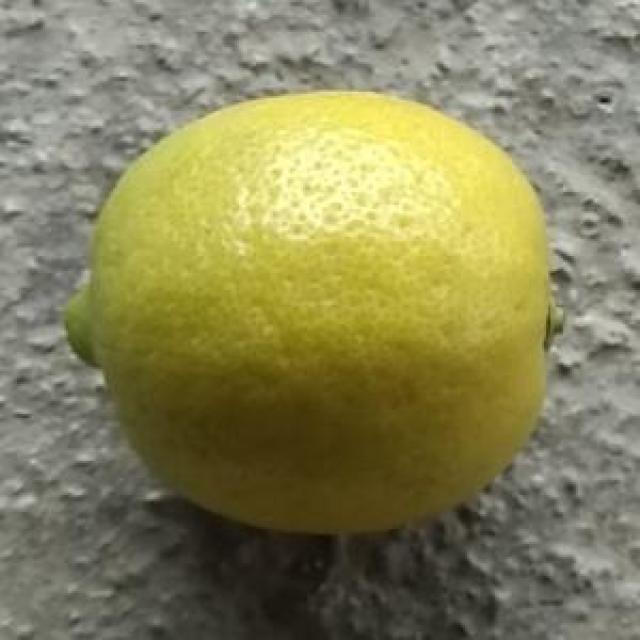lemon: (63, 87, 568, 532)
